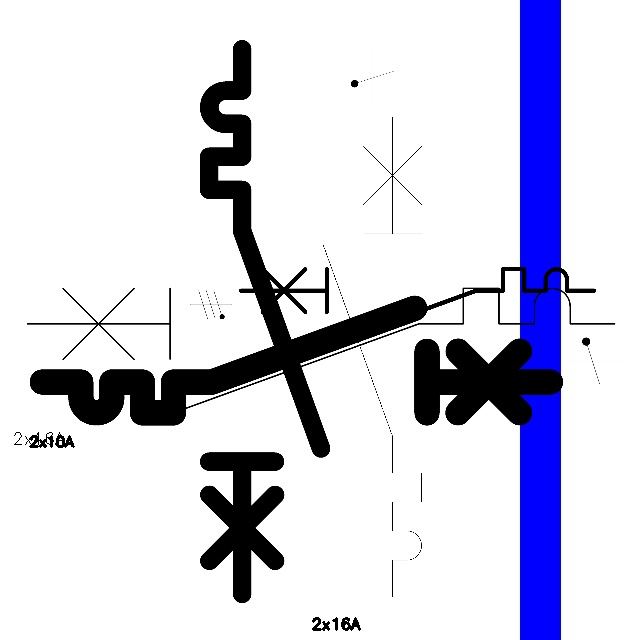interruptor_termomagnetico: (12, 273, 630, 424), (195, 35, 335, 608), (29, 295, 564, 426), (311, 104, 434, 608), (232, 260, 603, 351)
